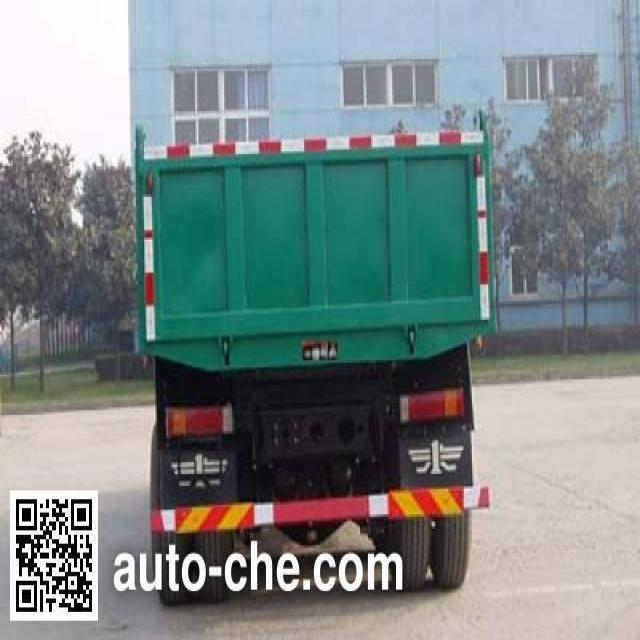uncovered: (133, 88, 500, 488)
